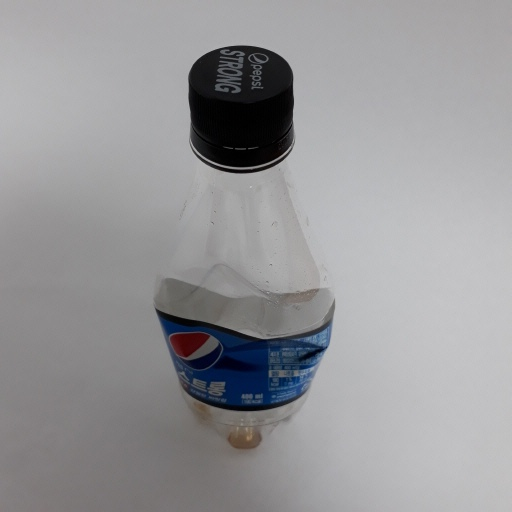Plastic_0: (152, 48, 337, 460)
